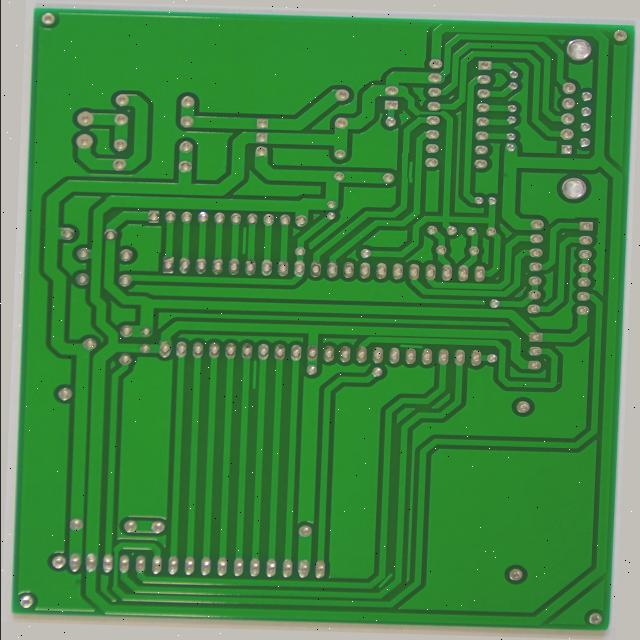spurious_copper: (246, 363, 260, 394), (230, 225, 242, 257), (388, 578, 407, 597), (400, 339, 430, 350), (401, 153, 414, 178)
